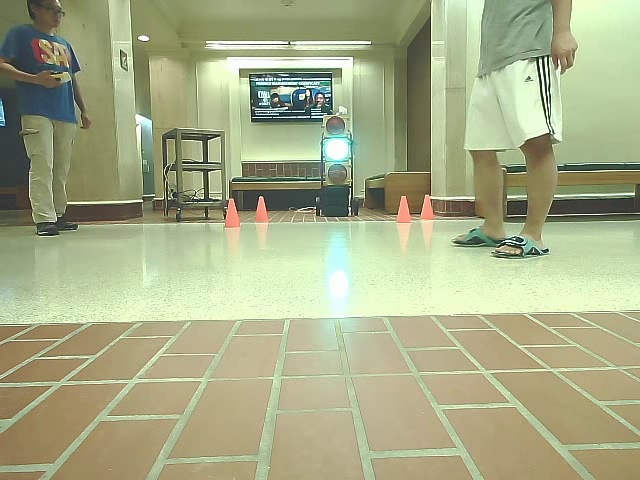green: (323, 112, 351, 188)
